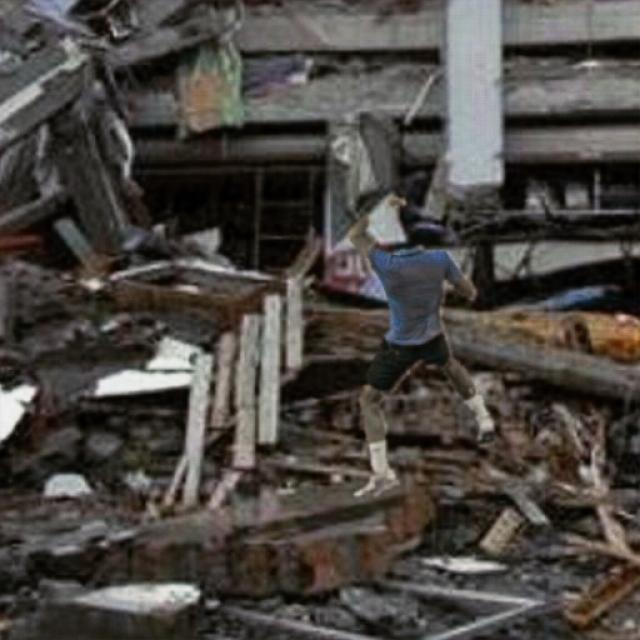Person in Rubble: (348, 197, 492, 495)
